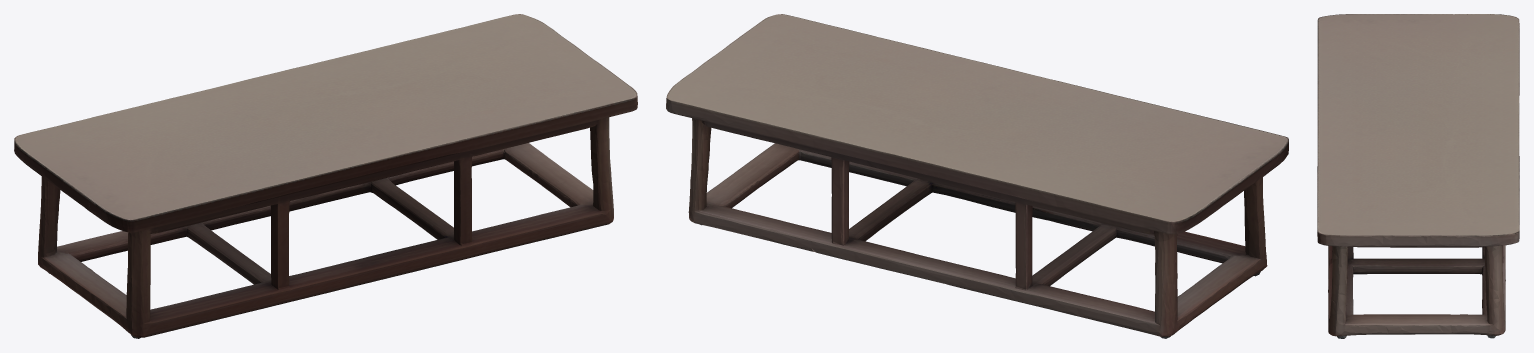
The picture shows the model from 3 angles, left to right: view 1: azimuth 30°, elevation 25°; view 2: azimuth 150°, elevation 25°; view 3: azimuth 270°, elevation 25°; orthographic projection. The views are drawn at different scales.
Visible parts, largest first — view 1: world; view 2: world; view 3: world.
Boxes of the visible parts, x1=… form: world: x1=14, y1=14, x2=637, y2=338; world: x1=666, y1=14, x2=1288, y2=338; world: x1=1317, y1=14, x2=1519, y2=338.
Size of the model in its own units: 1 by 0.2418 by 0.3862.
Materials: 1 (1 with a texture image).
